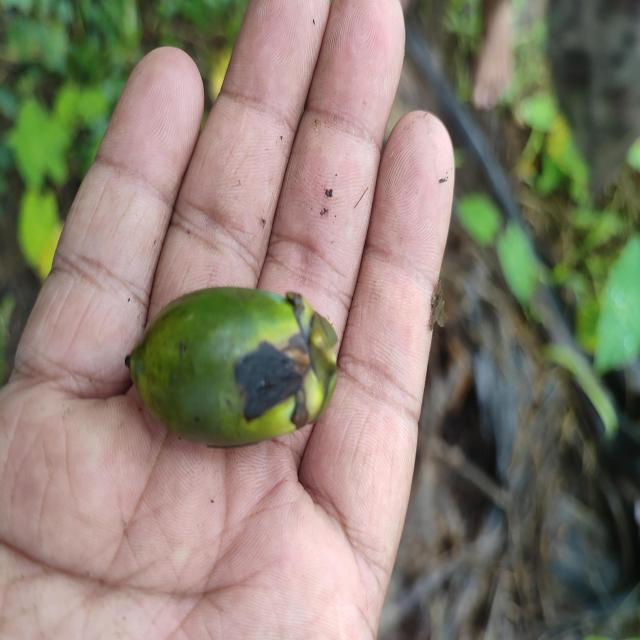damaged: (122, 285, 344, 451)
